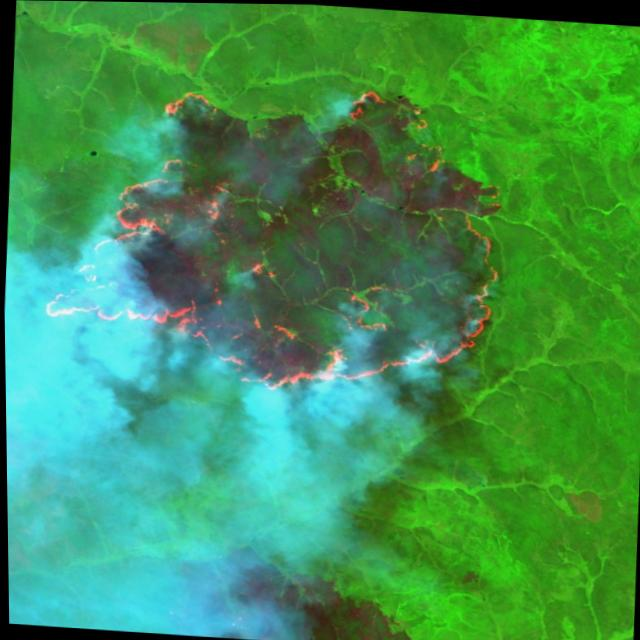fire: (22, 63, 522, 407)
